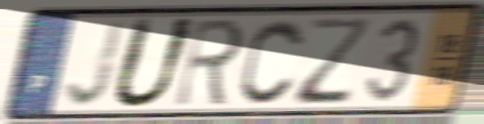3: (360, 15, 424, 105)
C: (238, 16, 308, 108)
J: (62, 19, 128, 110)
R: (171, 16, 248, 110)
U: (107, 15, 200, 112)
Z: (293, 14, 375, 108)
